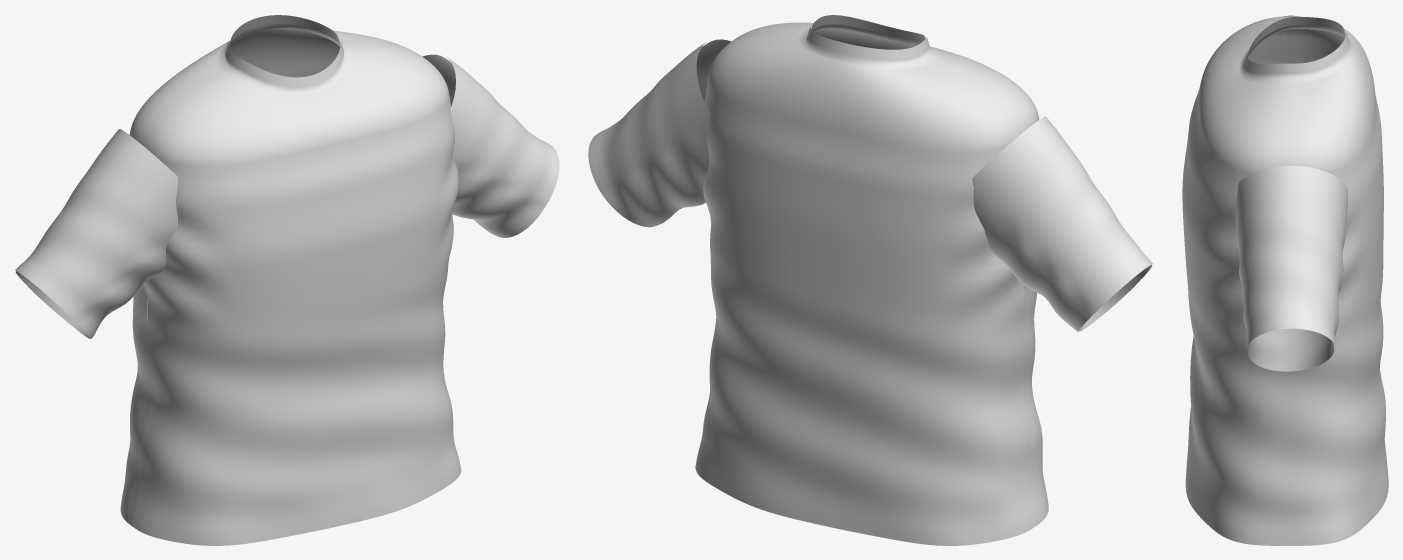
The model's file is maglia.glb.
The picture shows the model from 3 angles, left to right: view 1: azimuth 30°, elevation 25°; view 2: azimuth 150°, elevation 25°; view 3: azimuth 270°, elevation 25°; orthographic projection. The views are drawn at different scales.
Visible parts, largest first — view 1: Maglia; view 2: Maglia; view 3: Maglia.
Boxes of the visible parts, left/top/right/bottom form: Maglia: left=15, top=15, right=559, bottom=545; Maglia: left=588, top=15, right=1152, bottom=545; Maglia: left=1182, top=15, right=1388, bottom=545.
Size of the model in its own units: 0.8896 by 0.7225 by 0.3069.
Materials: 2 (2 with a texture image).
